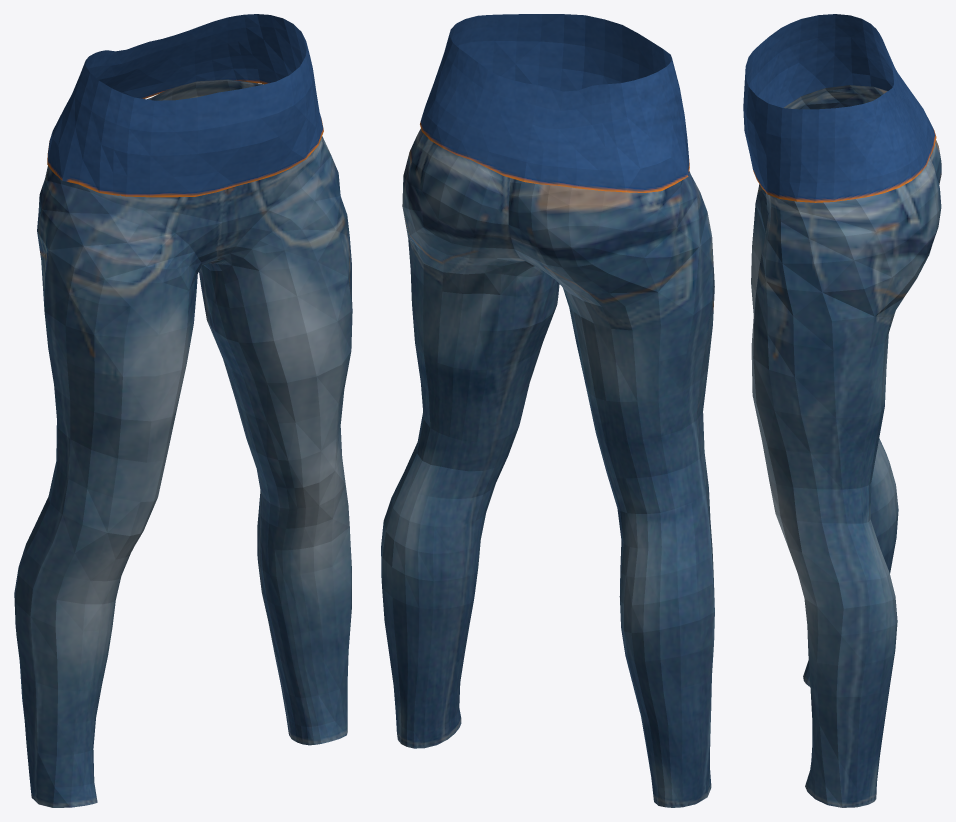
The model's file is trousers.obj.
3 renders of one model, left to right at view 1: azimuth 30°, elevation 25°; view 2: azimuth 150°, elevation 25°; view 3: azimuth 270°, elevation 25°, orthographic. The views are drawn at different scales.
Parts seen in each view (by area): view 1: trousers; view 2: trousers; view 3: trousers.
Boxes of the visible parts, x1,y1,x2,y2 form: trousers: (14, 14, 352, 807); trousers: (381, 14, 714, 807); trousers: (743, 14, 941, 807).
Bounding box in the file's own units: 42.74 × 91.6 × 24.21.
Materials: 1 (1 with a texture image).
